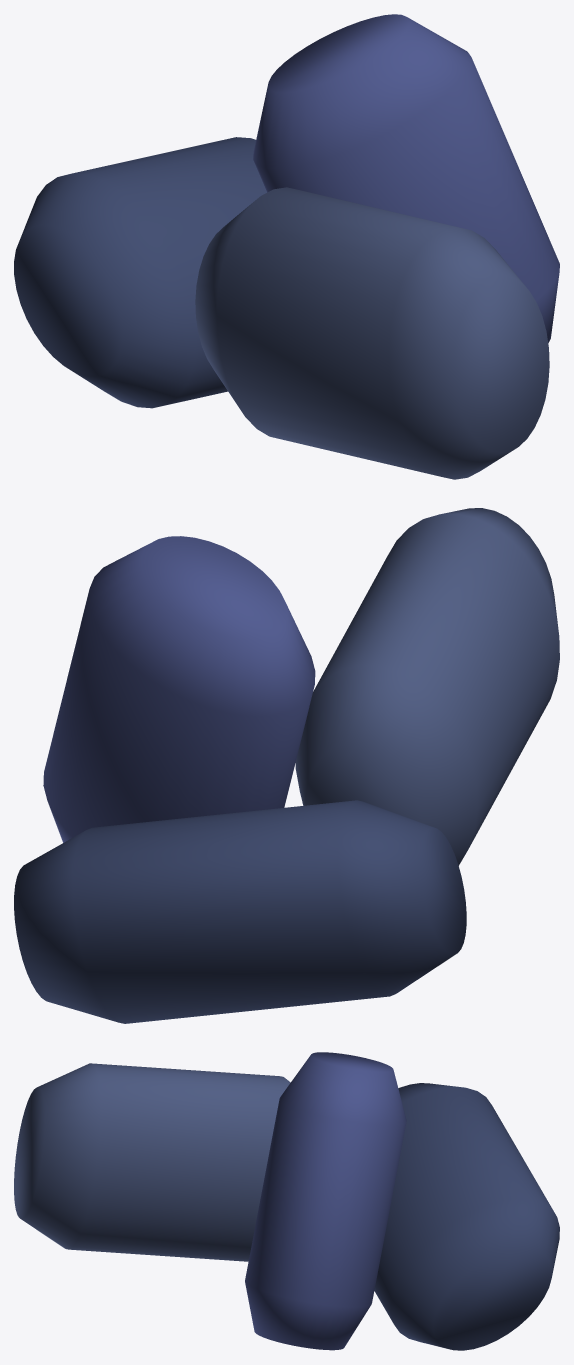
File: Pill.fbx
The picture shows the model from 3 angles, top to bottom: view 1: azimuth 30°, elevation 25°; view 2: azimuth 150°, elevation 25°; view 3: azimuth 270°, elevation 25°; orthographic projection. The views are drawn at different scales.
Visible parts, largest first — view 1: Cylinder.001, Cylinder, Cylinder.002; view 2: Cylinder.002, Cylinder, Cylinder.001; view 3: Cylinder.001, Cylinder.002, Cylinder.
Boxes of the visible parts, x1,y1,x2,y2 form: Cylinder.001: [195, 187, 549, 479]; Cylinder: [253, 14, 559, 342]; Cylinder.002: [14, 137, 266, 408]; Cylinder.002: [14, 800, 466, 1023]; Cylinder: [43, 536, 315, 842]; Cylinder.001: [295, 508, 559, 865]; Cylinder.001: [14, 1063, 290, 1261]; Cylinder.002: [374, 1083, 559, 1350]; Cylinder: [245, 1052, 406, 1350].
Size of the model in its own units: 180 by 148 by 250.
